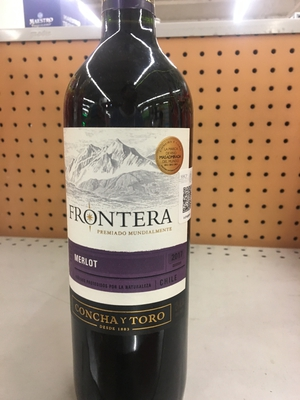frontera merlot: (53, 12, 215, 400)
